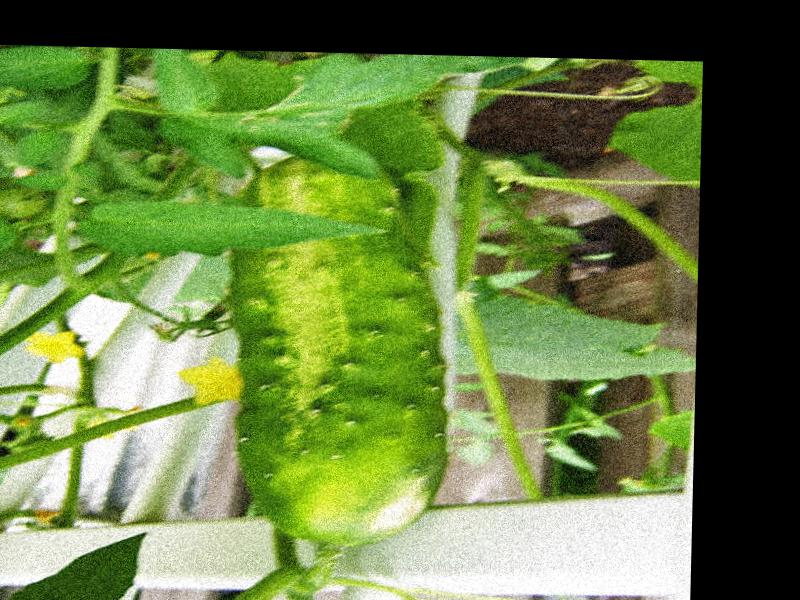Cucumber: (233, 159, 451, 548)
